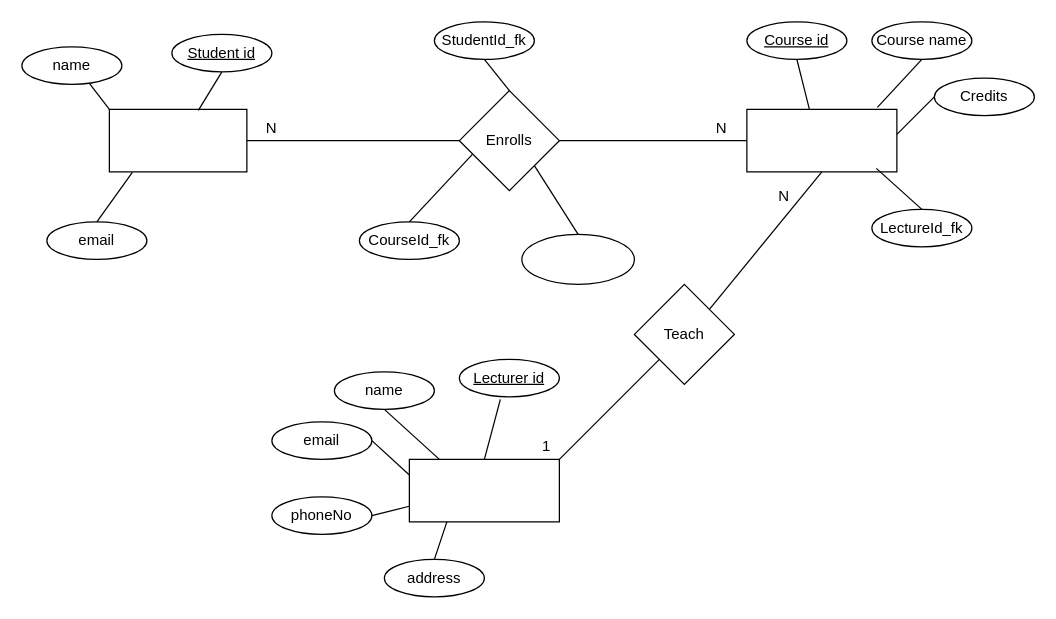
The diagram is 1056 pixels wide and 619 high, and some of its shapes have lost their labels. Each missing label, with the box of its shape:
Course: (746, 108, 897, 172)
Enrolement date: (521, 233, 634, 284)
Lecturer: (408, 458, 559, 522)
Student: (108, 108, 247, 172)
